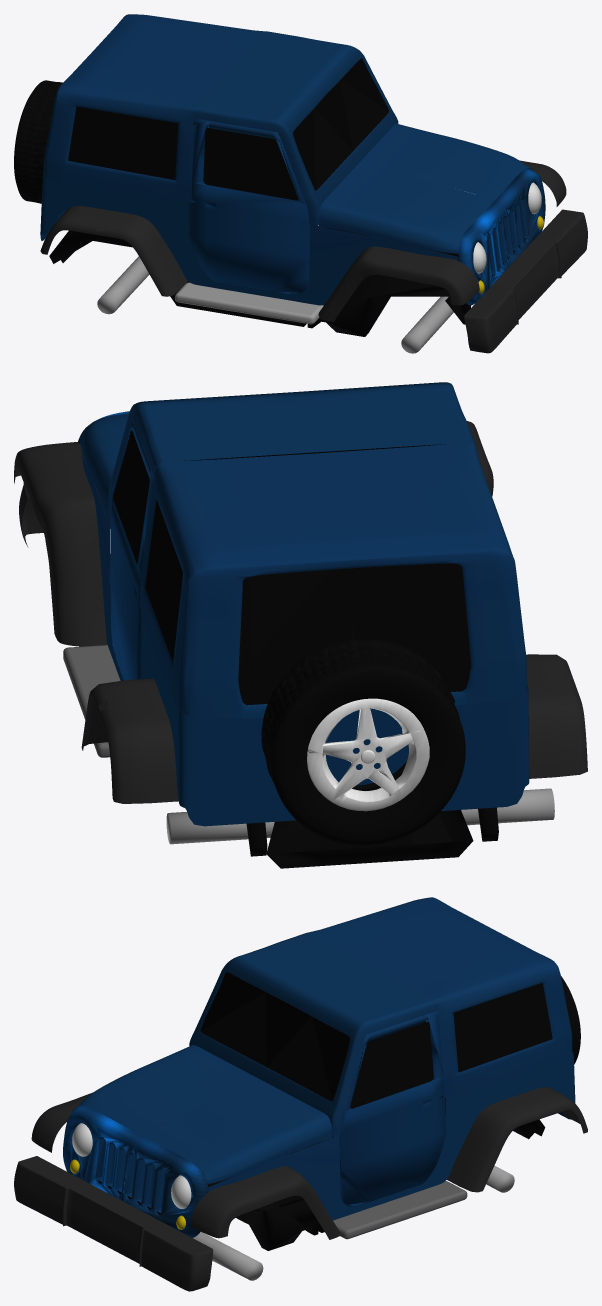
Rendered from camioneta.obj.
The picture shows the model from 3 angles, top to bottom: view 1: azimuth 30°, elevation 25°; view 2: azimuth 150°, elevation 25°; view 3: azimuth 270°, elevation 25°; orthographic projection. The views are drawn at different scales.
Visible parts, largest first — view 1: jeep:polySurface67, jeep:polySurface282; view 2: jeep:polySurface67, jeep:polySurface282; view 3: jeep:polySurface67, jeep:polySurface282.
Boxes of the visible parts, x1=… form: jeep:polySurface67: x1=40, y1=14, x2=587, y2=353; jeep:polySurface282: x1=14, y1=80, x2=62, y2=203; jeep:polySurface67: x1=14, y1=382, x2=587, y2=868; jeep:polySurface282: x1=261, y1=639, x2=465, y2=845; jeep:polySurface67: x1=14, y1=897, x2=587, y2=1291; jeep:polySurface282: x1=561, y1=976, x2=580, y2=1064.
Bounding box in the file's own units: 1.53 × 0.6645 × 1.62.
Materials: 9 (3 with a texture image).
